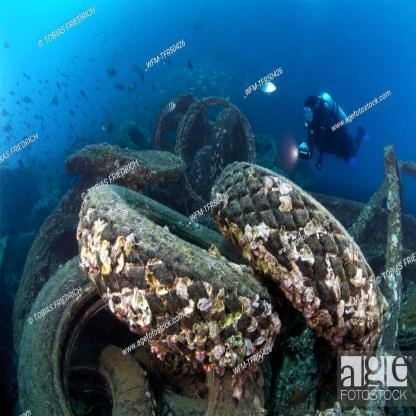tire: (78, 178, 264, 351), (224, 152, 363, 326), (25, 229, 124, 411), (178, 78, 260, 220)
